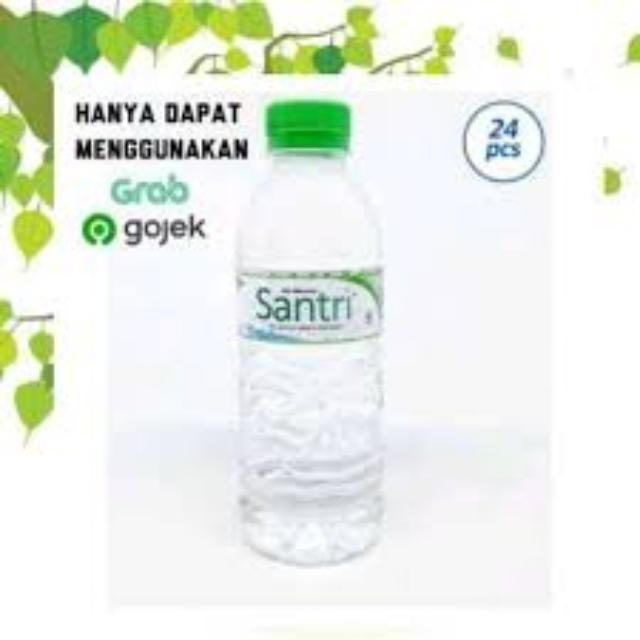trash: (225, 99, 395, 581)
